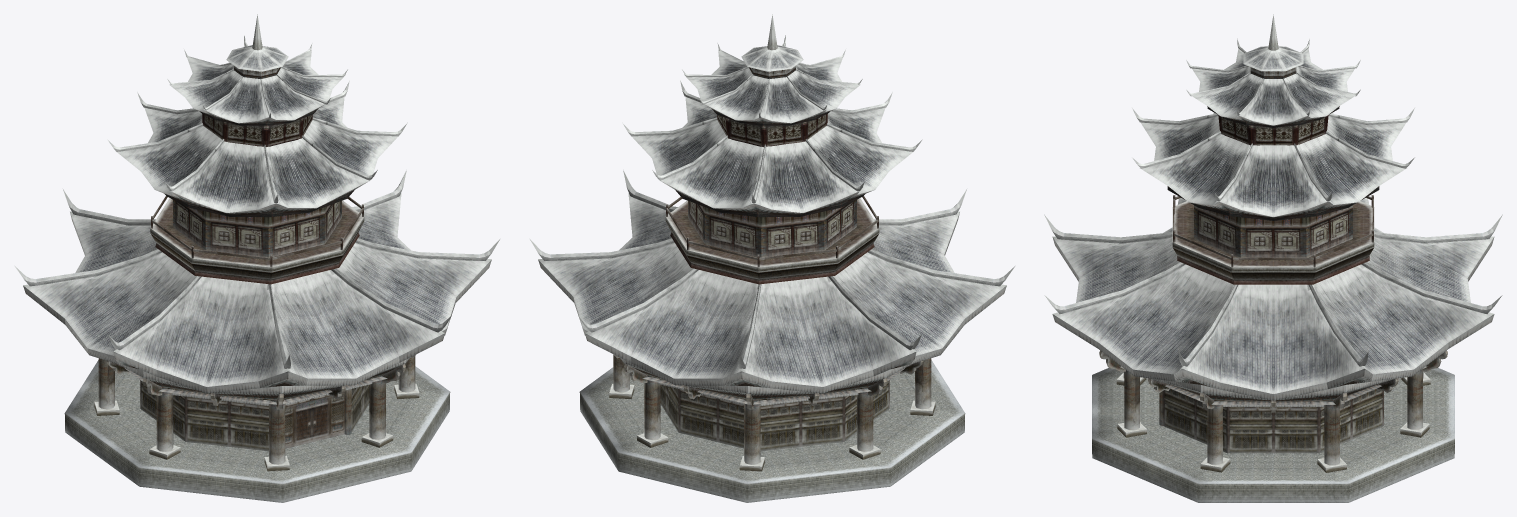
Rendered from snow_4fbuilding.fbx.
3 views of the same model, side by side, from view 1: azimuth 30°, elevation 25°; view 2: azimuth 150°, elevation 25°; view 3: azimuth 270°, elevation 25° (orthographic).
Parts seen in each view (by area): view 1: snow_4Fbuilding_01, snow_4Fbuilding_05, snow_4Fbuilding_02, snow_4Fbuilding_04, snow_4Fbuilding_03; view 2: snow_4Fbuilding_01, snow_4Fbuilding_05, snow_4Fbuilding_02, snow_4Fbuilding_04, snow_4Fbuilding_03; view 3: snow_4Fbuilding_01, snow_4Fbuilding_05, snow_4Fbuilding_02, snow_4Fbuilding_04, snow_4Fbuilding_03.
Part boxes in pixels (x1=…): snow_4Fbuilding_01: x1=23, y1=193, x2=491, y2=409; snow_4Fbuilding_05: x1=15, y1=14, x2=499, y2=368; snow_4Fbuilding_02: x1=64, y1=360, x2=450, y2=502; snow_4Fbuilding_04: x1=150, y1=66, x2=364, y2=284; snow_4Fbuilding_03: x1=94, y1=356, x2=419, y2=471; snow_4Fbuilding_01: x1=538, y1=193, x2=1006, y2=409; snow_4Fbuilding_05: x1=530, y1=14, x2=1014, y2=368; snow_4Fbuilding_02: x1=579, y1=360, x2=965, y2=502; snow_4Fbuilding_04: x1=665, y1=66, x2=879, y2=284; snow_4Fbuilding_03: x1=609, y1=354, x2=935, y2=471; snow_4Fbuilding_01: x1=1052, y1=198, x2=1494, y2=412; snow_4Fbuilding_05: x1=1044, y1=14, x2=1502, y2=366; snow_4Fbuilding_02: x1=1092, y1=368, x2=1454, y2=502; snow_4Fbuilding_04: x1=1172, y1=67, x2=1374, y2=284; snow_4Fbuilding_03: x1=1116, y1=366, x2=1430, y2=472.
Bounding box in the file's own units: 24.12 × 23.91 × 24.12.
